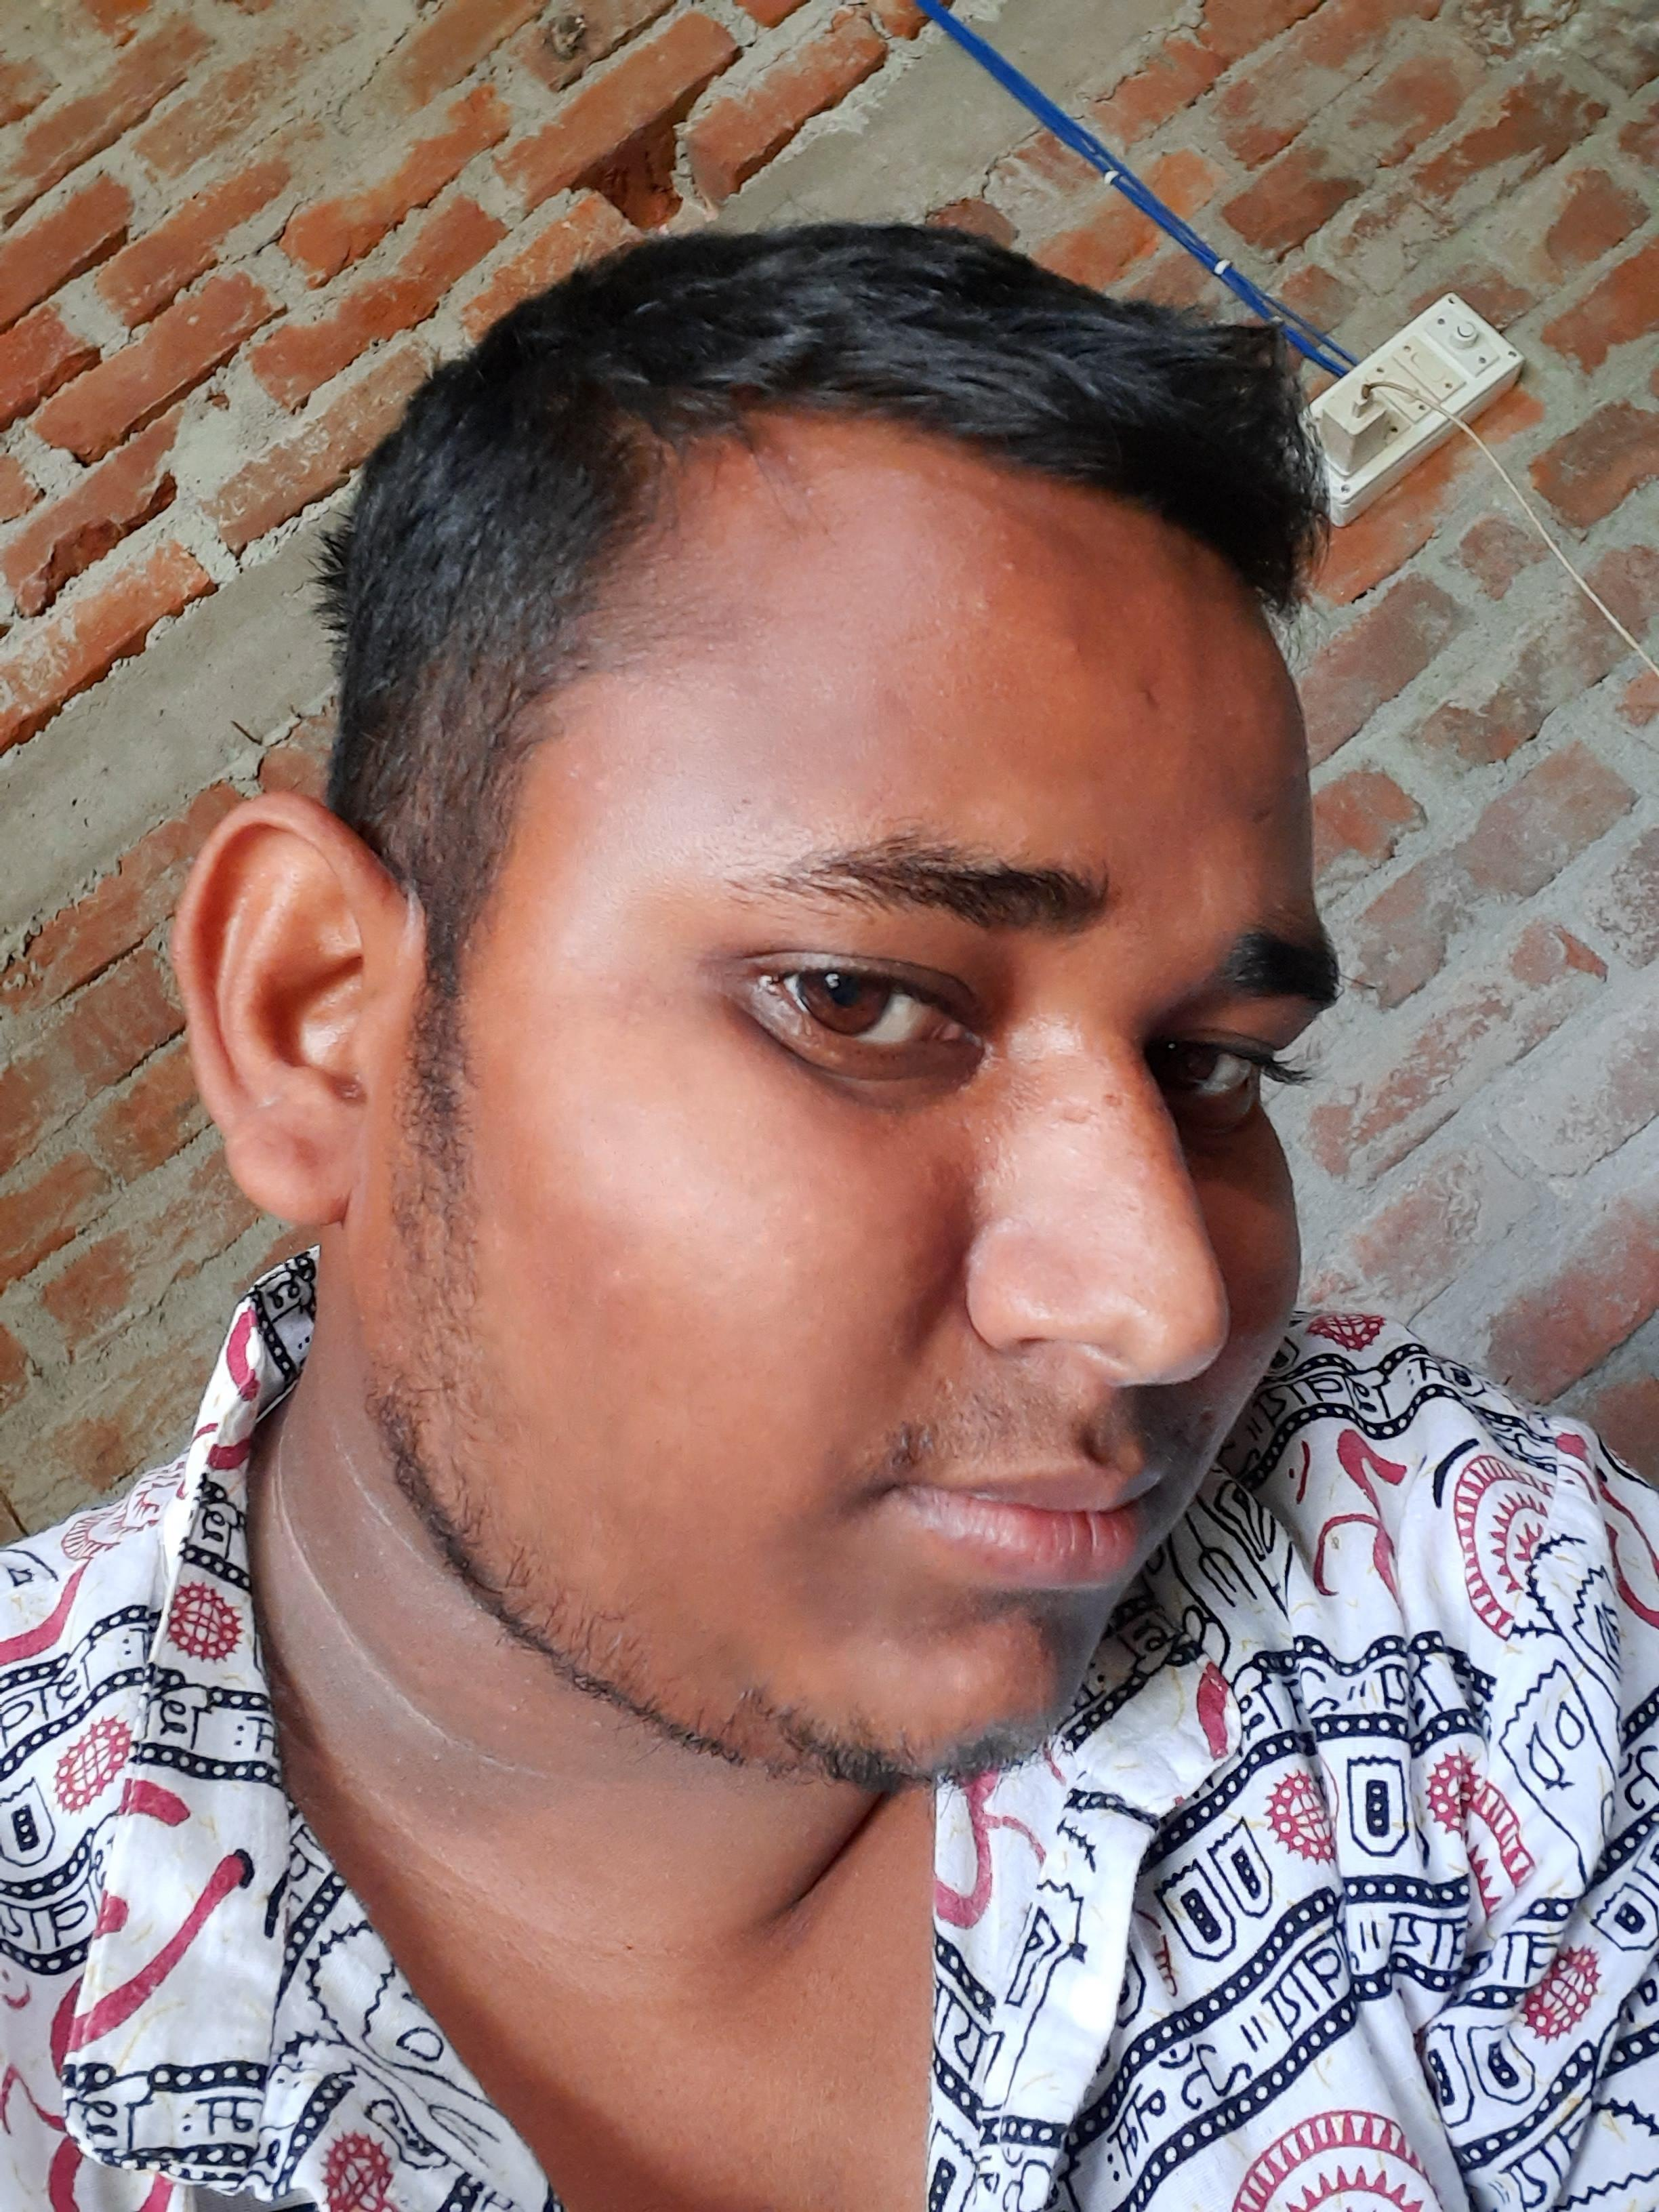Acne: (964, 592, 995, 618), (1061, 636, 1086, 657), (1000, 554, 1021, 577)
